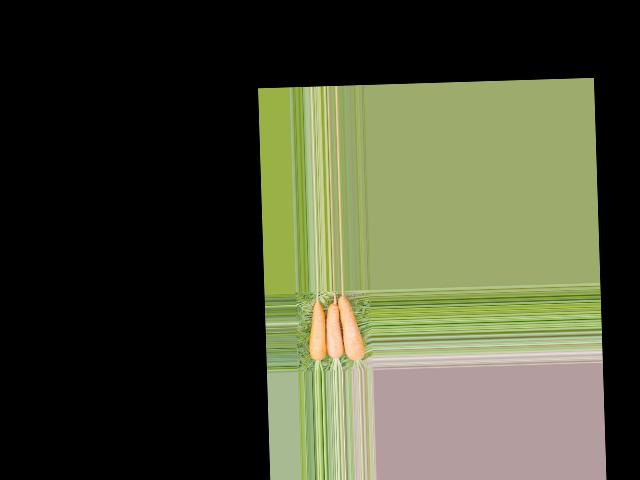carrot: (337, 294, 366, 361)
